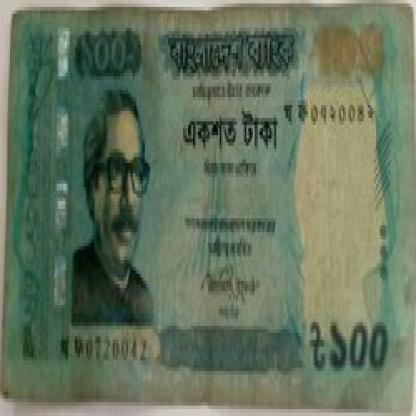one hundred taka: (314, 14, 388, 87), (330, 308, 394, 385), (73, 21, 150, 80)
